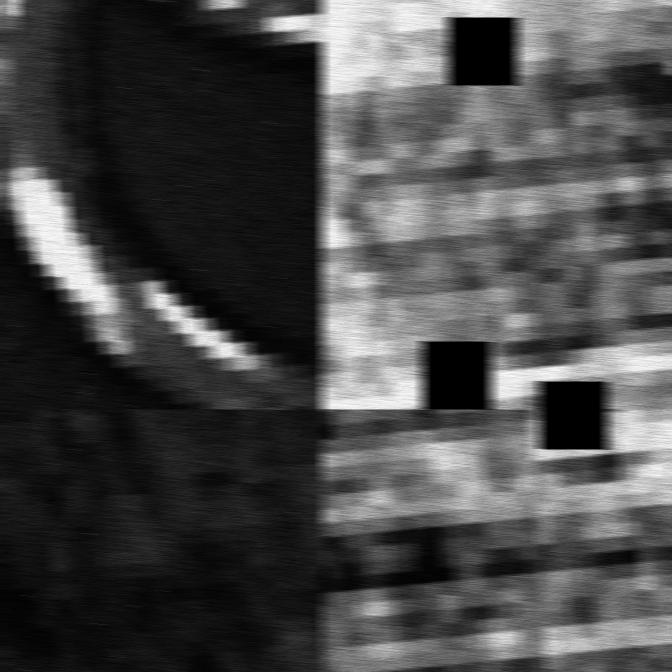Airbag: (0, 0, 324, 409), (0, 409, 324, 672)
